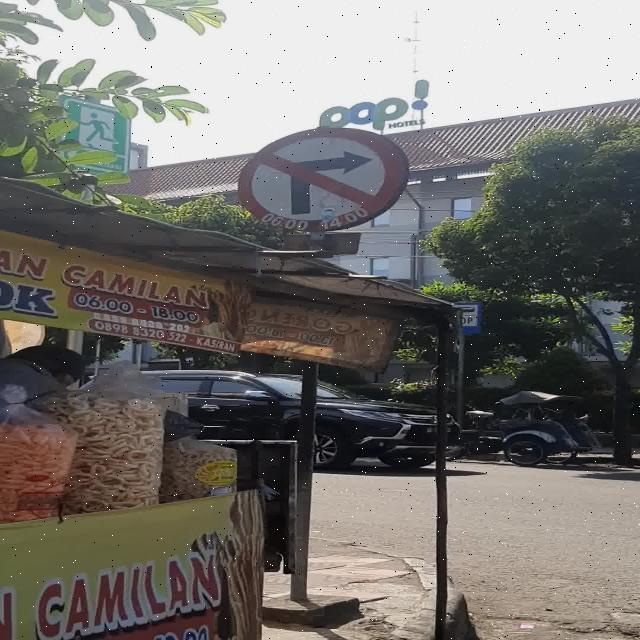Dilarang Belok Kanan: (237, 128, 407, 232)
